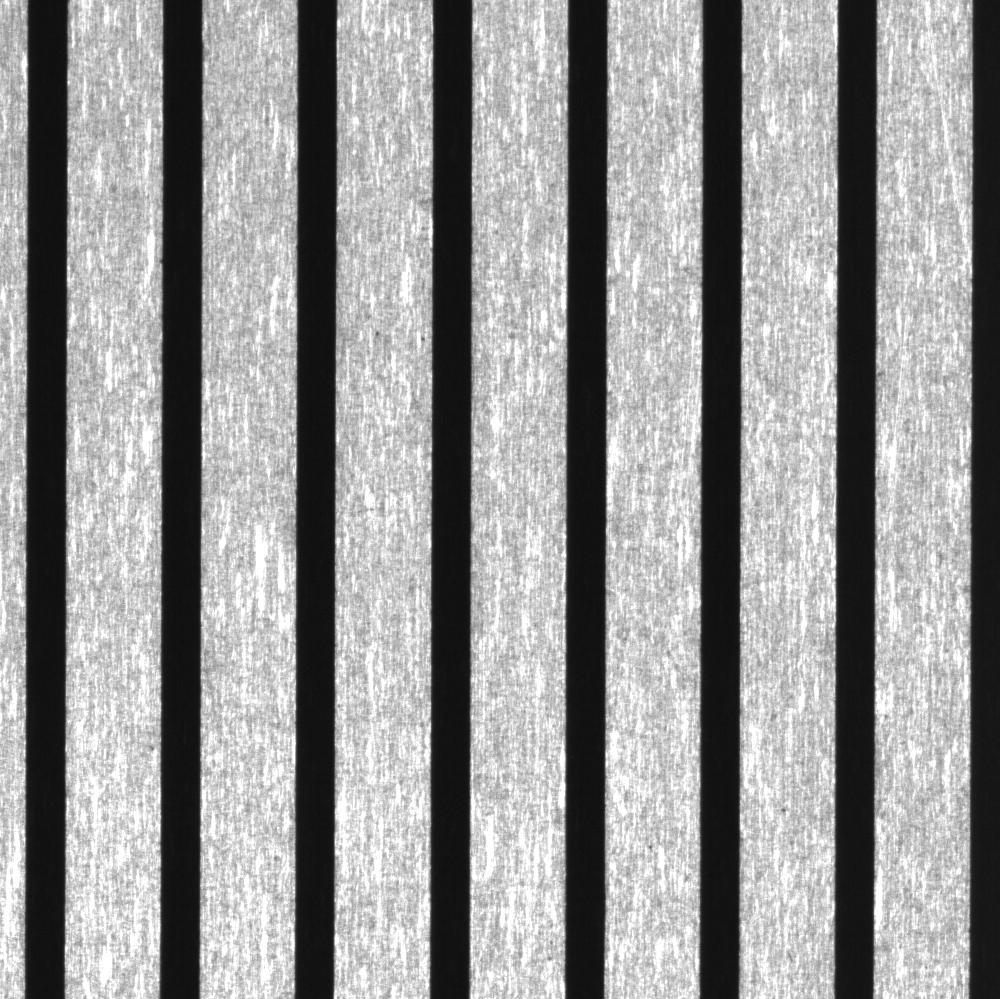Pinhole: (413, 326, 432, 350), (366, 322, 384, 345), (640, 836, 658, 857), (774, 799, 792, 819)
